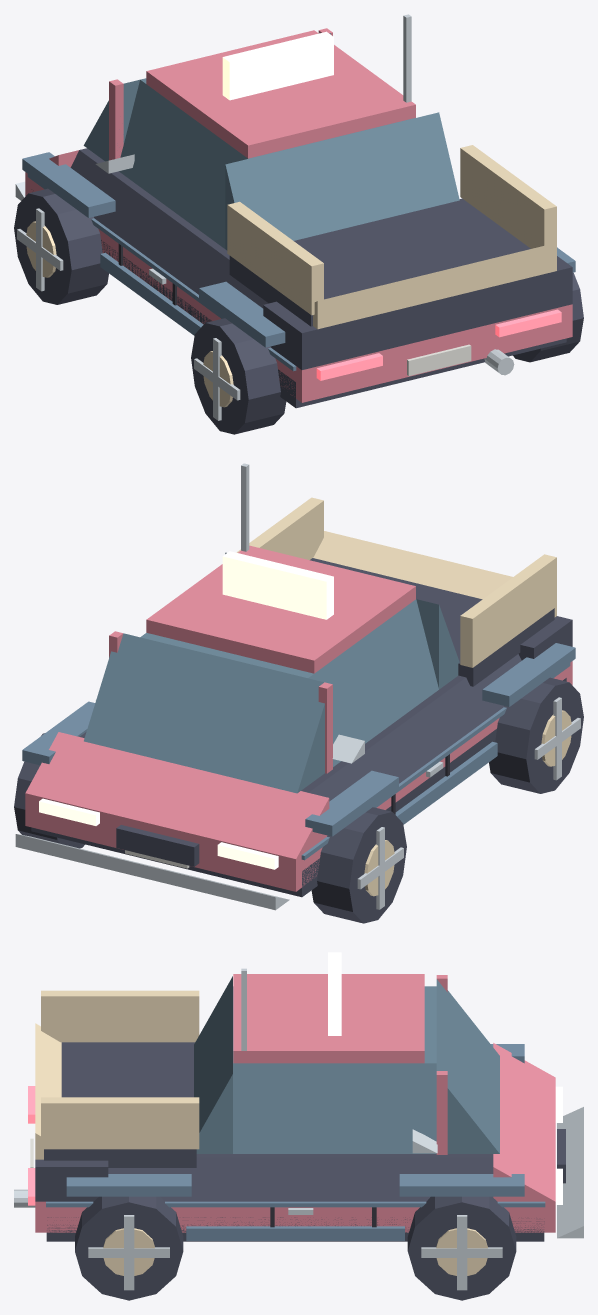
File: market_wagon.glb
3 renders of one model, top to bottom at view 1: azimuth 30°, elevation 25°; view 2: azimuth 150°, elevation 25°; view 3: azimuth 270°, elevation 25°, orthographic. The views are drawn at different scales.
Visible parts, largest first — view 1: RearWindow.146, Roof.246, PickupBed.013, Tail.046, CabinSideL.043, Body.246, ShoulderL.043, Ducktail.032, Wheel_RL.206, Wheel_FL.206, BedRail-1.013, BedRail1.013 (+20 smaller); view 2: Windshield.146, Nose.043, Roof.246, CabinSideL.043, ShoulderL.043, Body.246, Wheel_FL.206, Wheel_RL.206, BedRail-1.013, Ducktail.032, RoofSign.025, Bumper.242 (+23 smaller); view 3: CabinSideR.043, Roof.246, ShoulderR.043, PickupBed.013, BedRail1.013, BedRail-1.013, Windshield.146, Nose.043, Body.246, Wheel_FR.206, Wheel_RR.206, RearWindow.146 (+20 smaller).
Boxes of the visible parts, x1,y1,x2,y2 form: RearWindow.146: (225, 112, 459, 250); Roof.246: (146, 30, 415, 158); PickupBed.013: (229, 198, 530, 326); Tail.046: (263, 256, 572, 369); CabinSideL.043: (119, 80, 247, 248); Body.246: (25, 172, 572, 402); ShoulderL.043: (70, 150, 268, 308); Ducktail.032: (313, 242, 556, 329); Wheel_RL.206: (191, 318, 286, 434); Wheel_FL.206: (14, 188, 108, 304); BedRail-1.013: (227, 201, 323, 315); BedRail1.013: (460, 145, 556, 248); Windshield.146: (84, 633, 324, 793); Nose.043: (25, 732, 329, 858); Roof.246: (146, 545, 415, 673); CabinSideL.043: (308, 599, 438, 766); ShoulderL.043: (308, 654, 521, 801); Body.246: (25, 661, 572, 891); Wheel_FL.206: (311, 807, 406, 923); Wheel_RL.206: (489, 677, 583, 793); BedRail-1.013: (460, 554, 556, 667); Ducktail.032: (313, 531, 556, 617); RoofSign.025: (222, 551, 333, 619); Bumper.242: (15, 834, 289, 910); CabinSideR.043: (233, 1063, 436, 1153); Roof.246: (233, 974, 424, 1063); ShoulderR.043: (108, 1157, 493, 1201); PickupBed.013: (44, 1042, 196, 1167); BedRail1.013: (41, 1097, 199, 1149); BedRail-1.013: (41, 990, 199, 1042); Windshield.146: (436, 979, 499, 1153); Nose.043: (493, 1043, 555, 1201); Body.246: (35, 1201, 555, 1232); Wheel_FR.206: (407, 1196, 516, 1300); Wheel_RR.206: (75, 1196, 183, 1300); RearWindow.146: (194, 976, 232, 1153).
Size of the model in its own units: 3.3 by 2.84 by 5.04.
